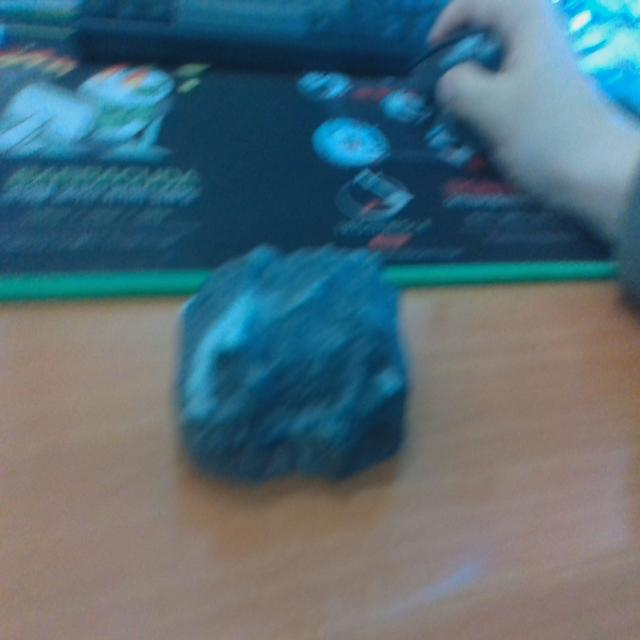stone: (175, 240, 413, 488)
